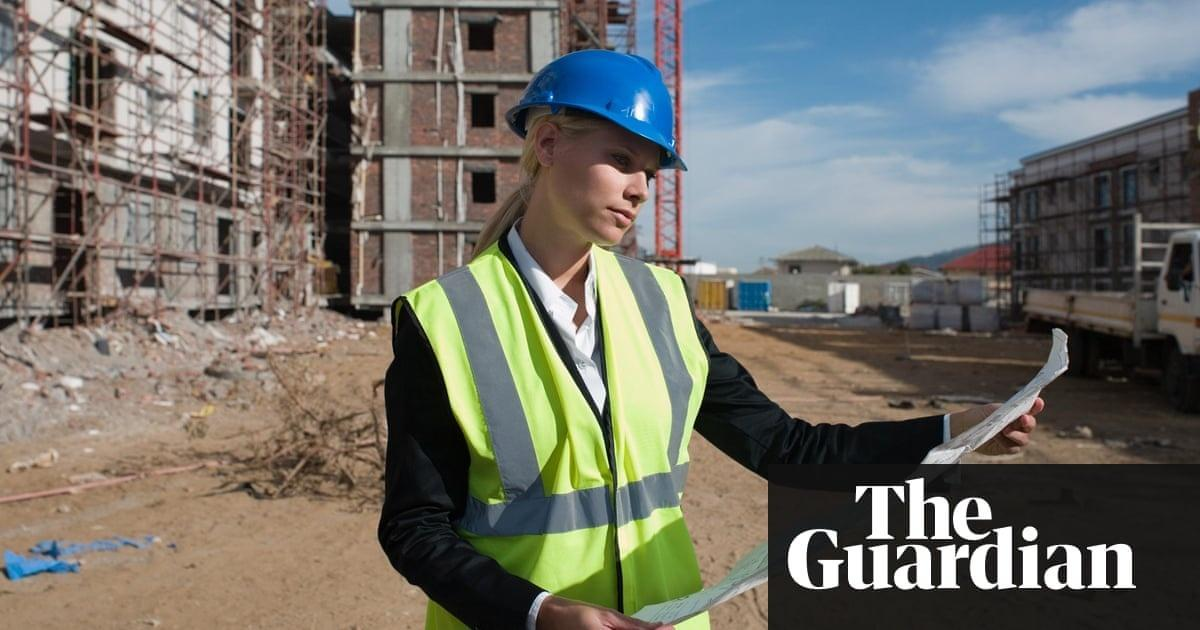helmet: (514, 46, 683, 172)
person: (374, 45, 716, 627)
vest: (418, 240, 687, 629)
